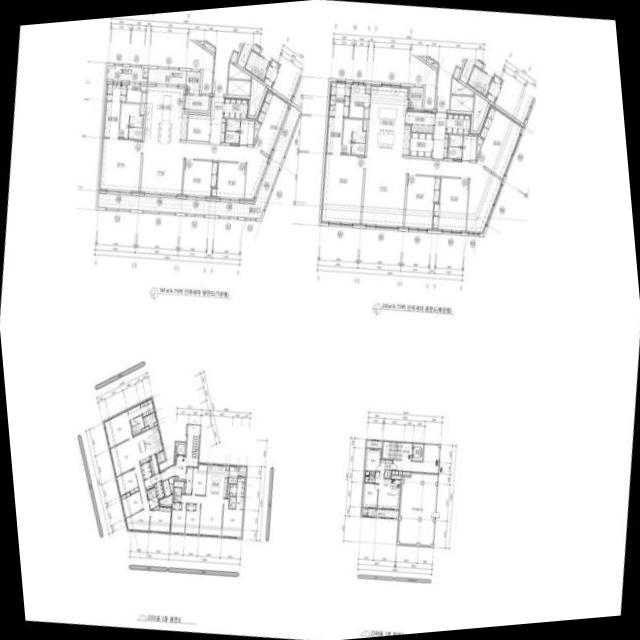background: (0, 0, 640, 640)
space_balconi: (97, 105, 300, 218), (106, 65, 147, 81), (147, 68, 186, 84), (368, 509, 398, 518), (366, 440, 382, 448), (156, 451, 165, 463), (238, 466, 246, 476)
space_bedroom: (476, 104, 523, 179), (320, 154, 364, 225), (253, 88, 290, 156), (98, 138, 141, 193), (404, 175, 440, 230), (432, 177, 468, 232), (210, 162, 246, 200), (182, 159, 217, 198), (103, 410, 132, 448), (221, 498, 243, 538), (120, 491, 143, 518), (187, 114, 210, 141), (116, 469, 139, 495), (149, 506, 171, 533), (191, 463, 207, 494), (185, 504, 200, 535), (171, 503, 186, 534), (362, 483, 378, 508), (365, 448, 381, 471), (186, 503, 195, 510), (172, 502, 181, 509)
space_dressroom: (328, 81, 350, 117), (102, 101, 120, 137), (325, 117, 342, 153), (105, 81, 127, 101), (140, 398, 154, 417), (236, 477, 244, 496), (229, 484, 236, 496)
space_elevator: (412, 443, 423, 460), (174, 442, 186, 455)
space_elevator_hall: (160, 425, 200, 481), (393, 443, 439, 473)
space_front: (209, 96, 226, 145), (432, 112, 448, 158), (446, 112, 471, 134), (223, 97, 248, 118), (144, 473, 161, 489), (184, 467, 193, 494), (154, 481, 164, 500), (141, 461, 151, 479), (380, 460, 392, 469)
space_kitchen: (366, 84, 410, 158), (143, 84, 187, 144), (133, 425, 163, 464), (205, 464, 229, 497), (383, 479, 400, 496)
space_living_room: (361, 155, 502, 234), (140, 142, 269, 201), (109, 437, 150, 531), (181, 494, 223, 536), (375, 462, 399, 509)
space_multipurpose_space: (349, 82, 369, 118), (126, 83, 146, 102)
space_other: (397, 472, 437, 546), (206, 40, 242, 94), (429, 55, 464, 110), (406, 110, 434, 133), (472, 93, 488, 131), (249, 77, 265, 115), (409, 133, 433, 157), (451, 77, 474, 95), (227, 79, 251, 96), (228, 62, 251, 79), (185, 94, 209, 110), (450, 95, 473, 111), (149, 454, 159, 475), (143, 412, 156, 428), (228, 465, 238, 483), (476, 136, 483, 157), (163, 479, 171, 496), (140, 92, 146, 114), (160, 494, 172, 505), (204, 42, 215, 53), (174, 481, 184, 493), (254, 121, 260, 141), (427, 57, 437, 68), (365, 471, 375, 482), (363, 108, 368, 130), (168, 476, 173, 494), (230, 51, 237, 63), (453, 67, 460, 78), (384, 470, 391, 478), (361, 508, 367, 515), (141, 426, 149, 431), (391, 475, 401, 479), (366, 83, 370, 92), (143, 68, 147, 77), (402, 471, 410, 475), (227, 484, 229, 498), (152, 506, 159, 509), (392, 471, 398, 474), (174, 456, 176, 464), (154, 421, 157, 426), (226, 465, 229, 470), (398, 471, 402, 474), (174, 476, 178, 479)
space_outdoor_room: (409, 86, 423, 109), (186, 71, 200, 93)
space_staircase: (382, 441, 402, 459), (191, 435, 199, 458)
space_toilet: (118, 103, 143, 139), (341, 118, 366, 154), (461, 135, 477, 159), (239, 120, 254, 144), (130, 415, 144, 435), (127, 404, 141, 419), (449, 134, 463, 147), (226, 119, 240, 131), (448, 146, 462, 158), (225, 131, 239, 143), (148, 496, 158, 509), (173, 487, 181, 502), (235, 497, 243, 509), (150, 487, 156, 497), (146, 489, 152, 499), (228, 502, 235, 508), (229, 496, 236, 502)
